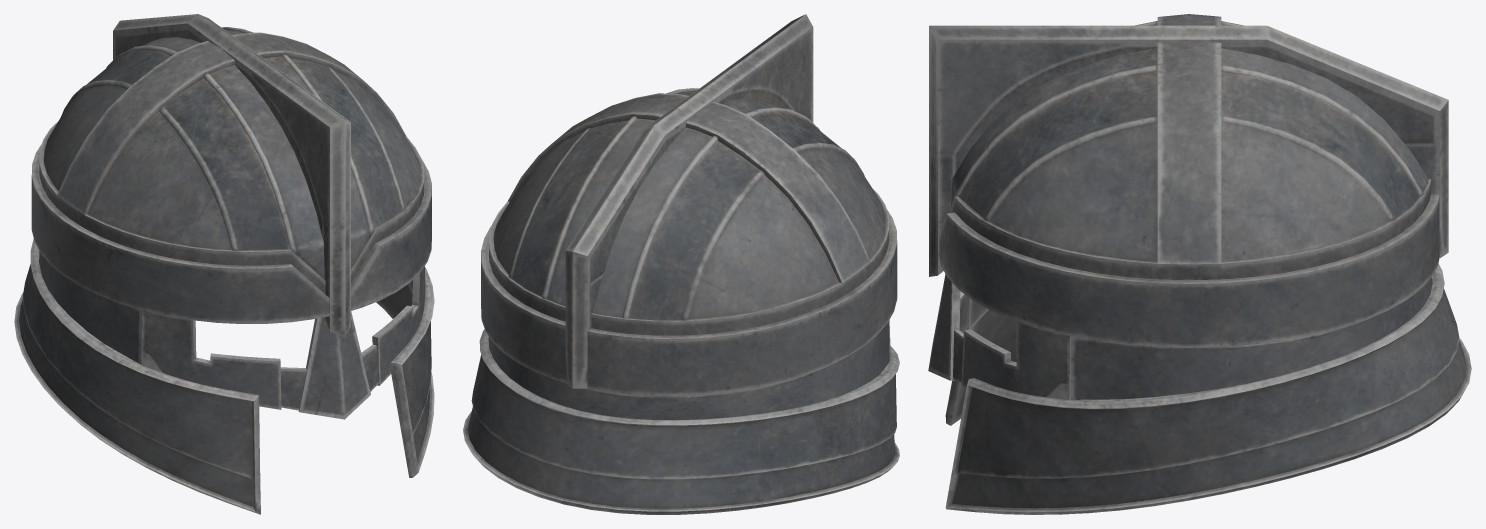
The model's file is sk_dwarf_erebor_helmet_plate_med_c.fbx.
3 renders of one model, left to right at view 1: azimuth 30°, elevation 25°; view 2: azimuth 150°, elevation 25°; view 3: azimuth 270°, elevation 25°, orthographic. The views are drawn at different scales.
Visible parts, largest first — view 1: sk_dwarf_erebor_helmet_plate_med_c; view 2: sk_dwarf_erebor_helmet_plate_med_c; view 3: sk_dwarf_erebor_helmet_plate_med_c.
Part boxes in pixels (box(x1,y1,x2,y2)): sk_dwarf_erebor_helmet_plate_med_c: box(14, 14, 434, 514); sk_dwarf_erebor_helmet_plate_med_c: box(463, 14, 899, 514); sk_dwarf_erebor_helmet_plate_med_c: box(928, 14, 1471, 514).
Size of the model in its own units: 0.2646 by 0.3095 by 0.2779.
Materials: 1 (1 with a texture image).
